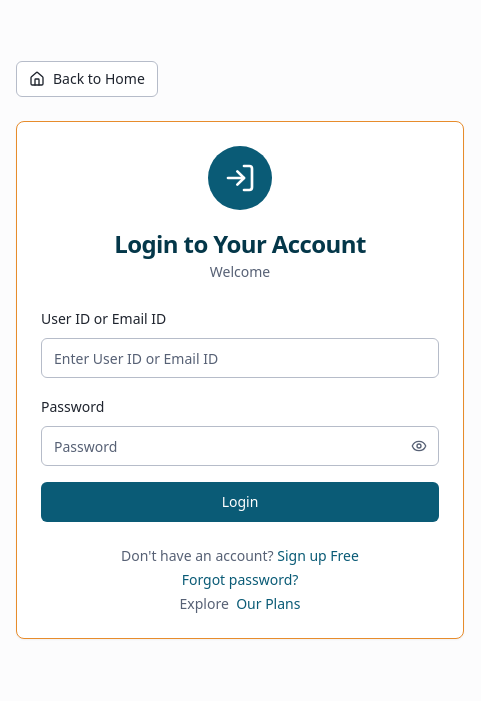
Login — wrong password countdown › warns with 2 attempts left
This screenshot has width=481, height=701.
Type "agent@example.com" into the field with placeholder "Enter User ID or Email ID". click: (240, 358)
box: [41,338,439,378]
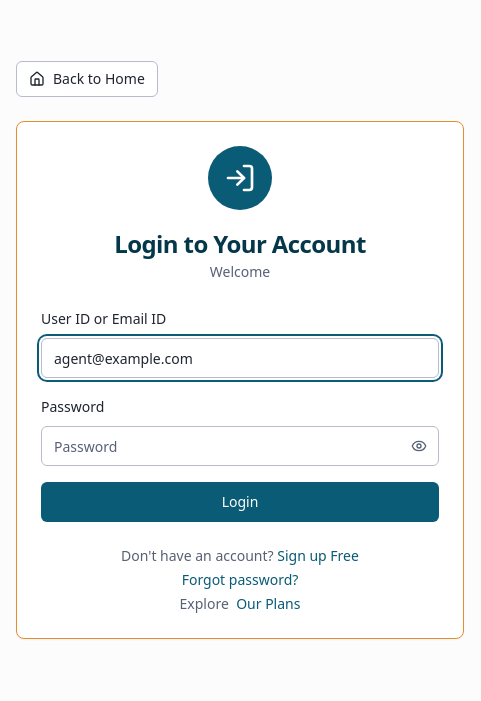
Type "whatever1" into the password field with placeholder "Password". click: (240, 446)
box: [41,426,439,466]
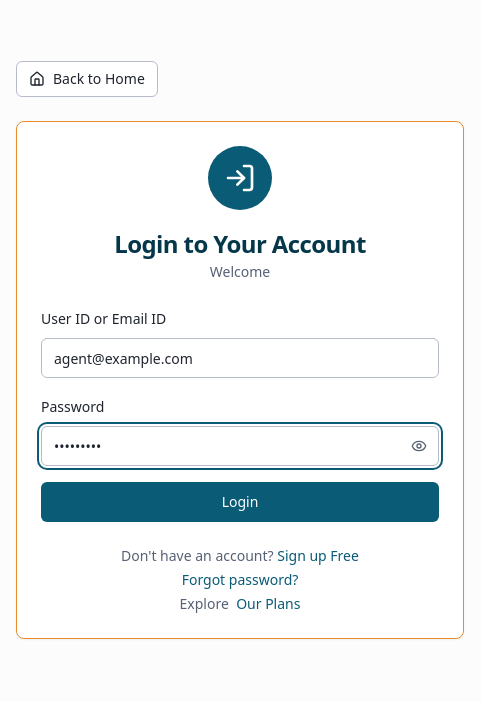
Click the button "Login". click: (240, 502)
box: [41,482,439,522]
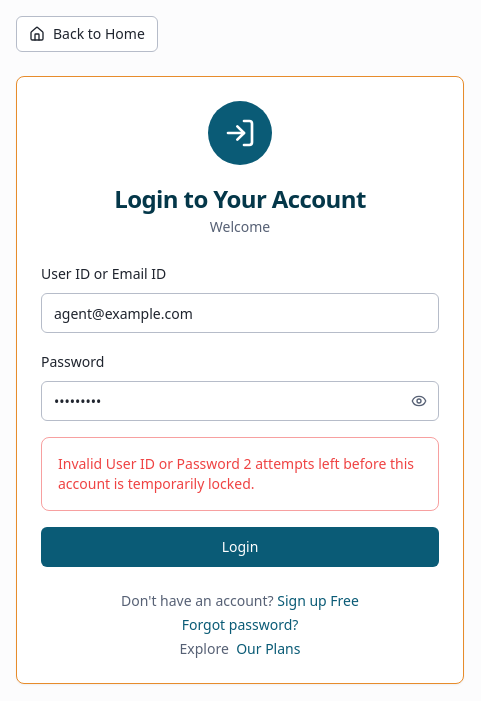
Now the text "2 attempts left before this account is temporarily locked" is shown, box [58,454,414,493]
